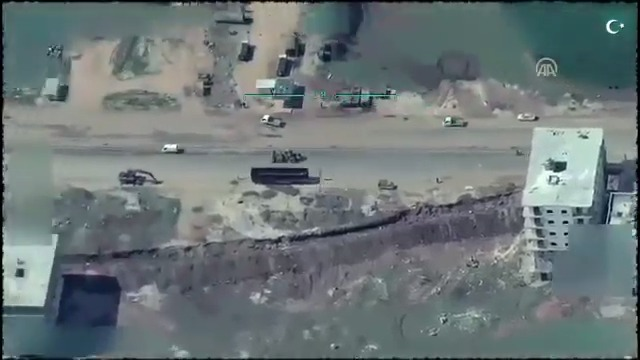arac: (117, 161, 164, 187), (259, 110, 288, 127), (159, 140, 185, 157), (441, 113, 470, 128), (517, 109, 540, 123)
bina: (514, 122, 608, 286)
